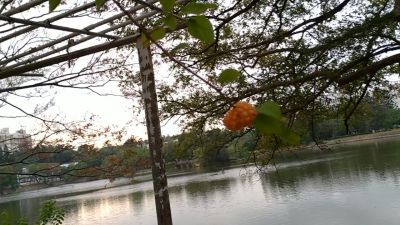eggs: (223, 99, 260, 132)
